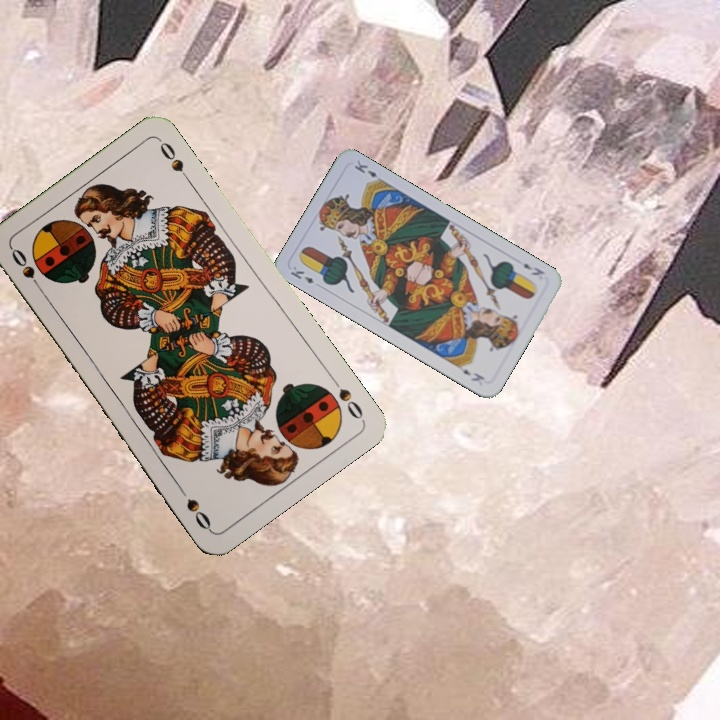EK: (286, 262, 317, 286), (519, 259, 547, 278)
SO: (7, 244, 47, 296), (326, 372, 366, 423)
